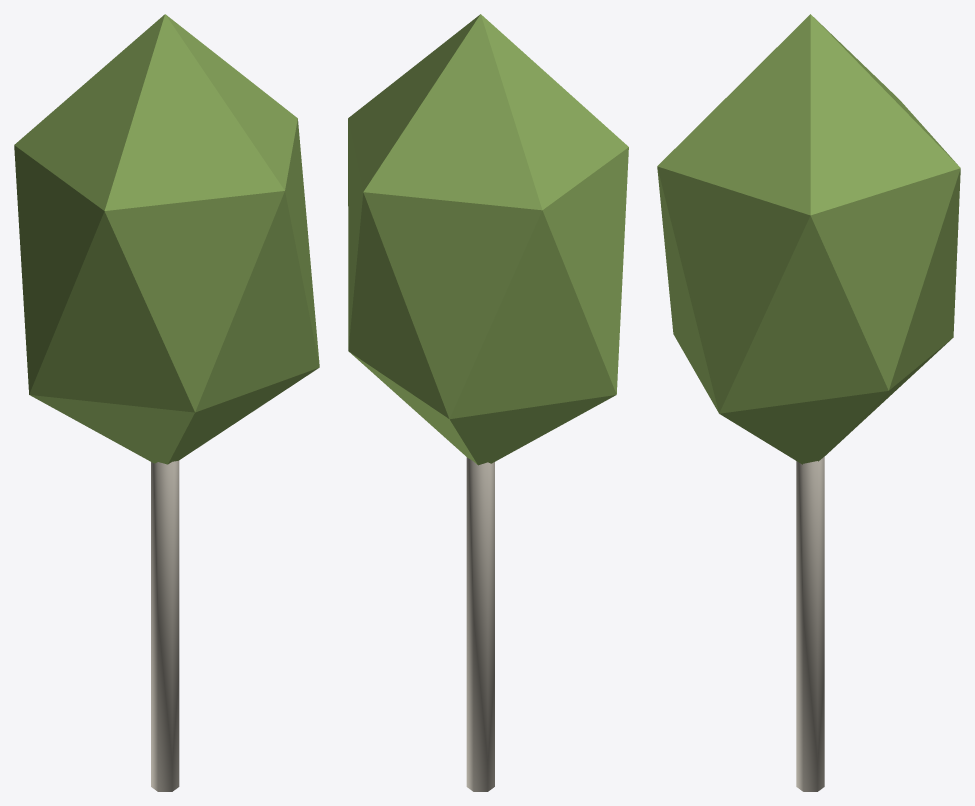
File: tree_birch_lod.glb
3 views of the same model, side by side, from view 1: azimuth 30°, elevation 25°; view 2: azimuth 150°, elevation 25°; view 3: azimuth 270°, elevation 25° (orthographic).
Visible parts, largest first — view 1: Tree.005; view 2: Tree.005; view 3: Tree.005.
Part boxes in pixels (x1,y1,x2,y2): Tree.005: (14, 14, 319, 791); Tree.005: (348, 14, 628, 791); Tree.005: (657, 14, 960, 791).
Size of the model in its own units: 3.7 by 10.17 by 3.62.
